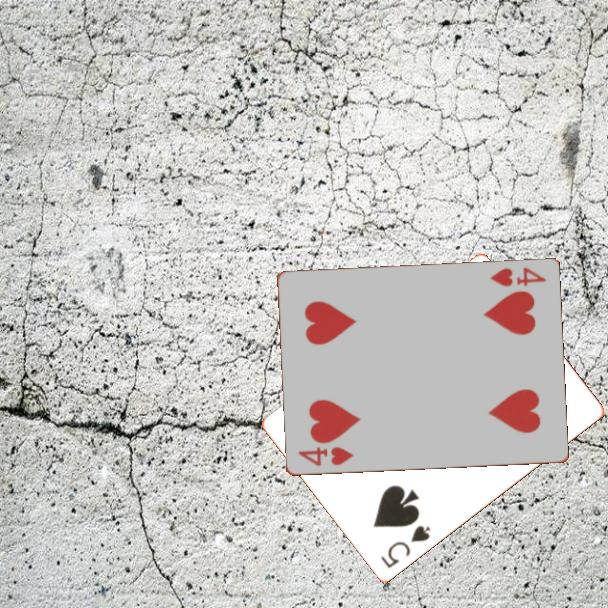h04: (486, 264, 548, 290), (294, 444, 356, 469)
s05: (377, 522, 434, 572)
